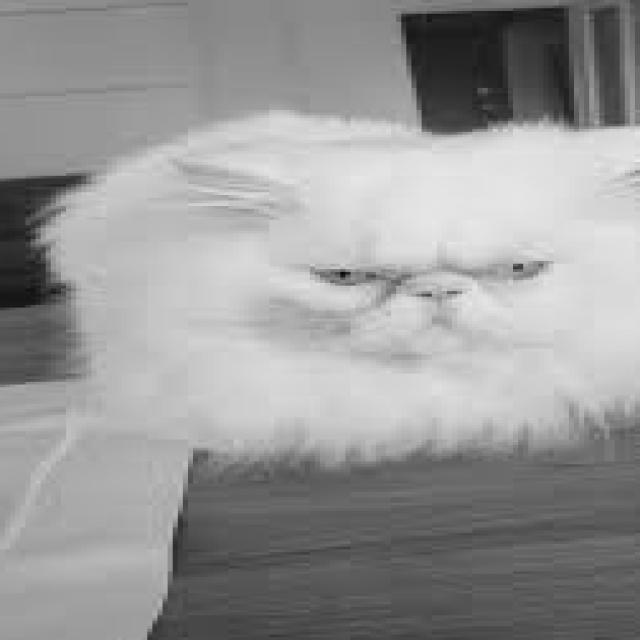iran: (267, 210, 605, 366)
